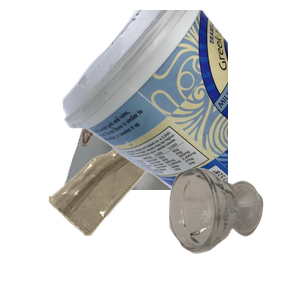glass: (166, 165, 300, 300)
metal: (60, 82, 300, 262)
plastic: (60, 10, 300, 190)
trash: (46, 144, 188, 300)
